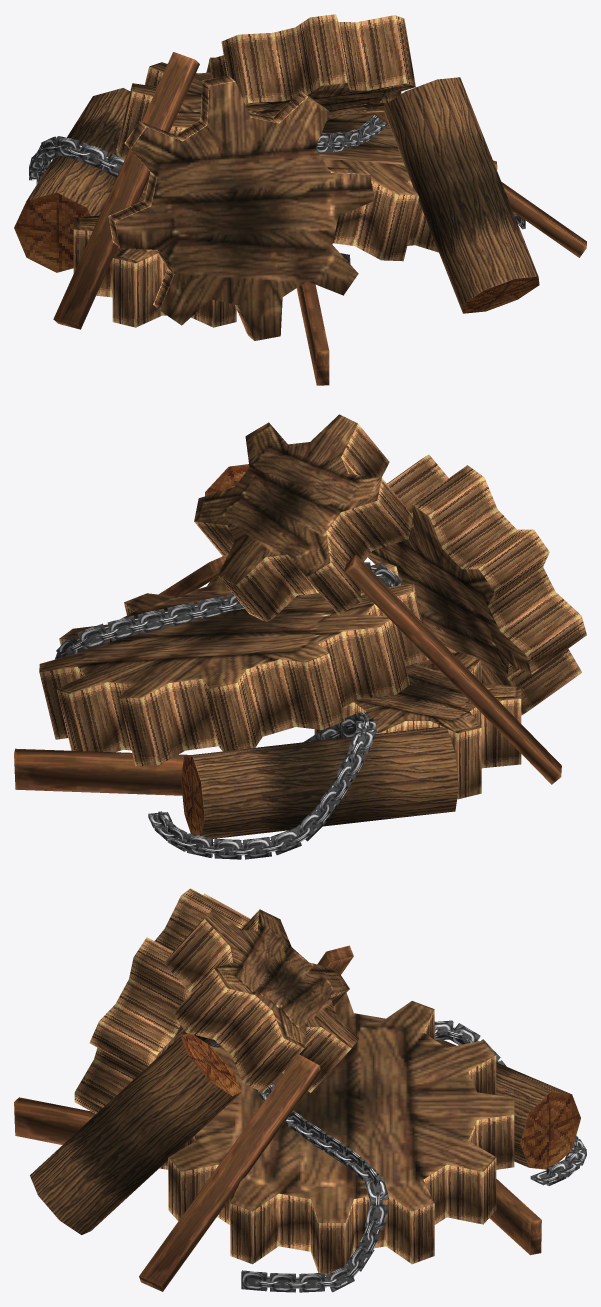
The model's file is INST_SWORDLIGHT_PARTSPILE.fbx.
3 renders of one model, top to bottom at view 1: azimuth 30°, elevation 25°; view 2: azimuth 150°, elevation 25°; view 3: azimuth 270°, elevation 25°, orthographic. The views are drawn at different scales.
Visible parts, largest first — view 1: INST_SWORDLIGHT_PARTSPILE; view 2: INST_SWORDLIGHT_PARTSPILE; view 3: INST_SWORDLIGHT_PARTSPILE.
Boxes of the visible parts, x1=… form: INST_SWORDLIGHT_PARTSPILE: x1=14, y1=14, x2=586, y2=385; INST_SWORDLIGHT_PARTSPILE: x1=14, y1=414, x2=586, y2=859; INST_SWORDLIGHT_PARTSPILE: x1=14, y1=888, x2=586, y2=1292.
Size of the model in its own units: 31136 by 17814 by 33271.
Materials: 6 (6 with a texture image).
